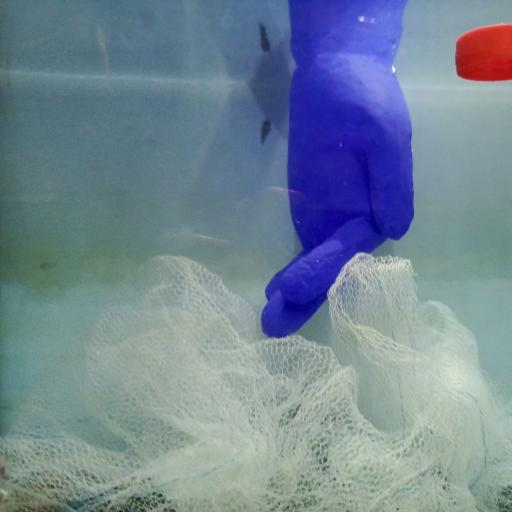bottle_cap: (454, 26, 512, 83)
glove: (264, 0, 418, 335)
net: (5, 252, 512, 512)
